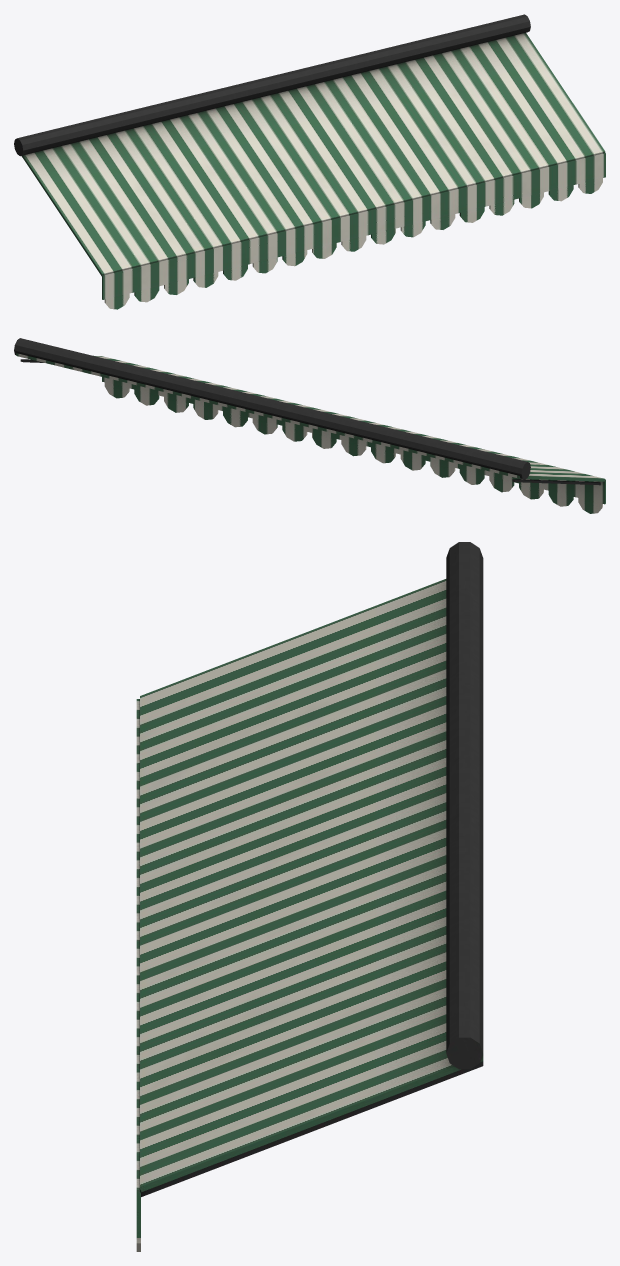
Rendered from awning_44_green.glb.
The picture shows the model from 3 angles, top to bottom: view 1: azimuth 30°, elevation 25°; view 2: azimuth 150°, elevation 25°; view 3: azimuth 270°, elevation 25°; orthographic projection. The views are drawn at different scales.
Parts seen in each view (by area): view 1: awning_44_green; view 2: awning_44_green; view 3: awning_44_green.
Part boxes in pixels (x1,y1,x2,y2): awning_44_green: (14, 14, 605, 309); awning_44_green: (14, 338, 605, 513); awning_44_green: (136, 542, 483, 1251).
Bounding box in the file's own units: 4.44 × 0.9566 × 1.31.
1 material, 1 textured.
